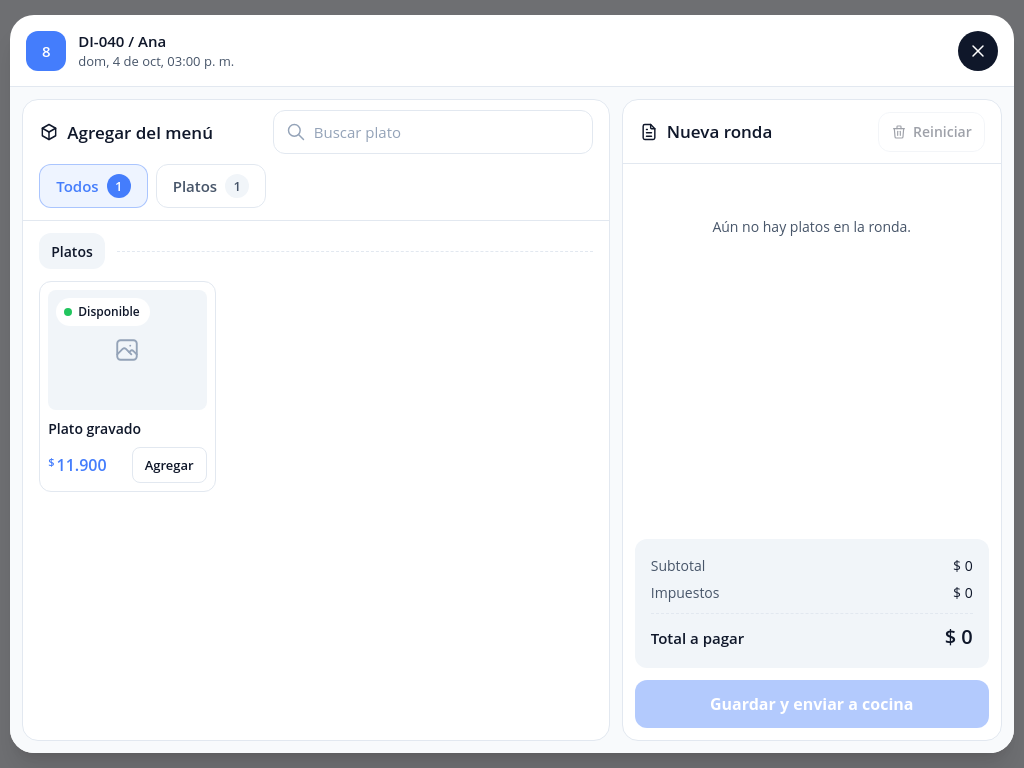
Test: muestra la base, el IVA y el precio final sin volver a gravarlo
Click the button "Agregar" at (169, 465), box x1=132 y1=447 x2=207 y2=483
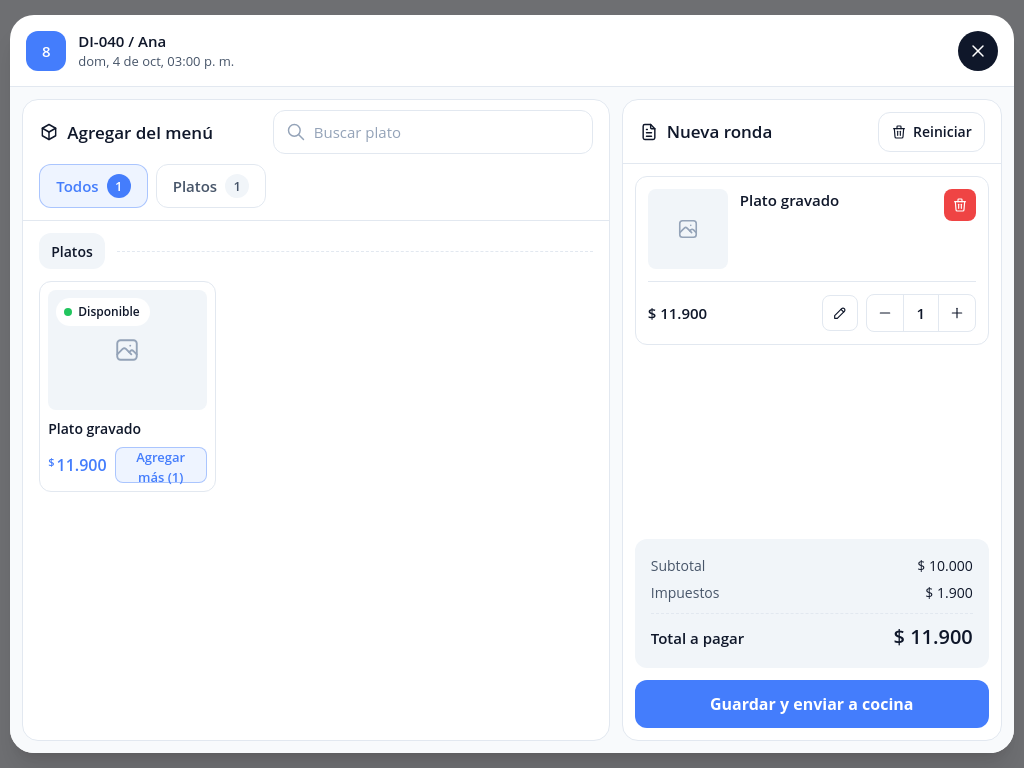
Check: the text "$ 10.000" is shown, box x1=917 y1=555 x2=973 y2=576
Check: the text "$ 1.900" is shown, box x1=925 y1=582 x2=973 y2=603
Check: the text "$ 11.900" next to "Total a pagar" is shown, box x1=894 y1=622 x2=973 y2=652
